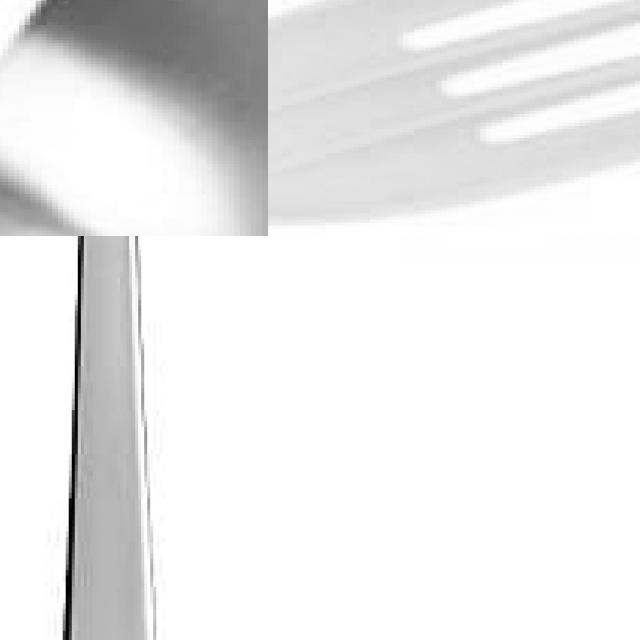forks: (319, 0, 640, 236)
spoons: (0, 0, 268, 236)
